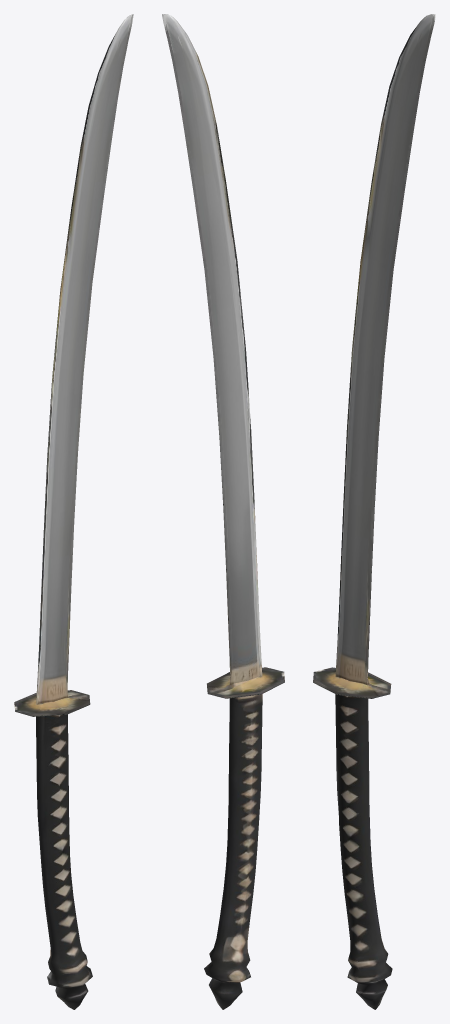
Rendered from katana.fbx.
The picture shows the model from 3 angles, left to right: view 1: azimuth 30°, elevation 25°; view 2: azimuth 210°, elevation 25°; view 3: azimuth 330°, elevation 25°; orthographic projection. The views are drawn at different scales.
Parts seen in each view (by area): view 1: katana; view 2: katana; view 3: katana.
Boxes of the visible parts, bbox=[...] form: katana: bbox=[14, 14, 133, 1009]; katana: bbox=[162, 14, 284, 1009]; katana: bbox=[313, 14, 435, 1009].
Bounding box in the file's own units: 12.65 × 100 × 5.41.
